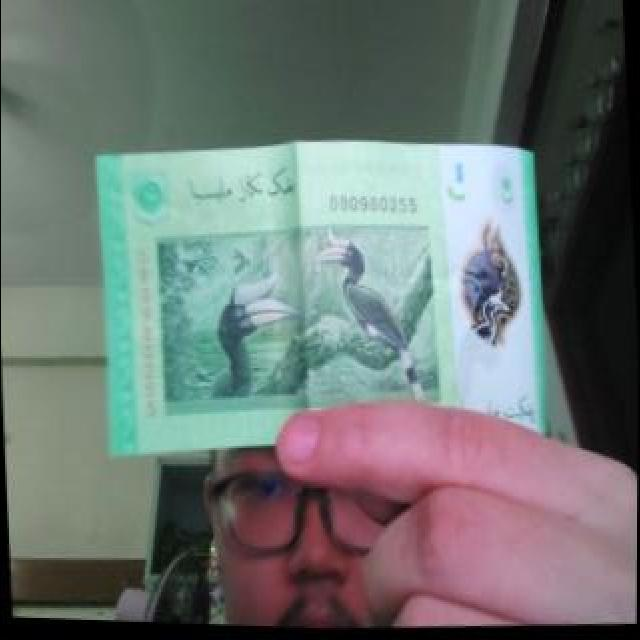5 Ringgit: (94, 130, 576, 478)
